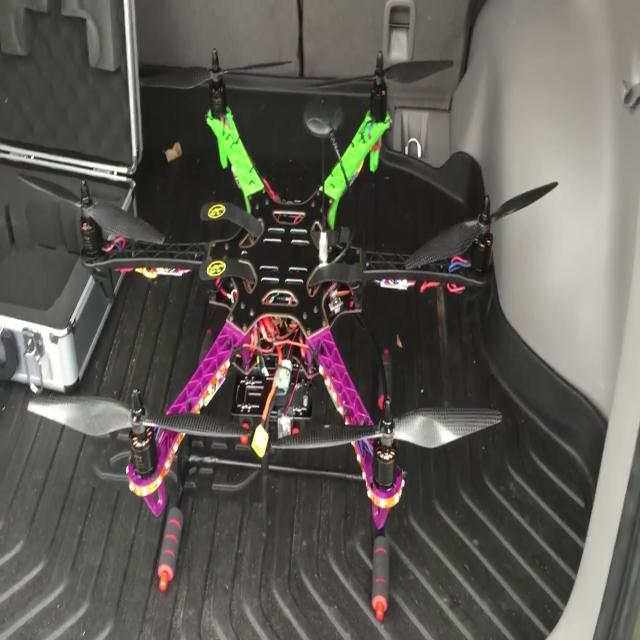drone: (52, 44, 508, 584)
